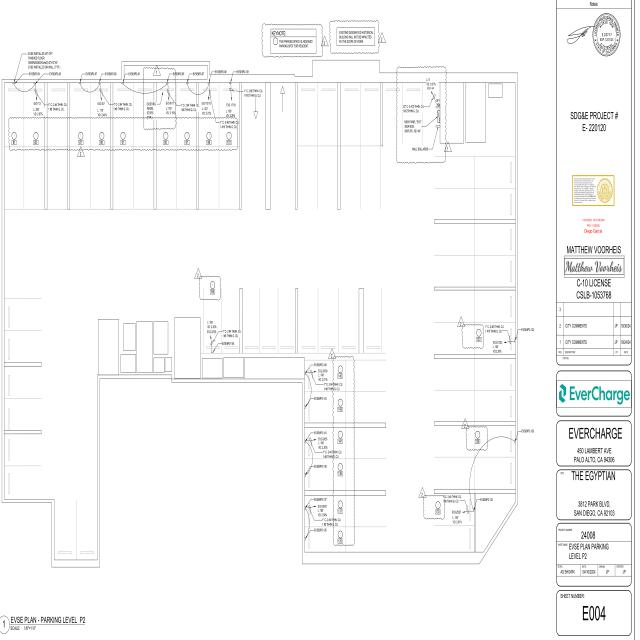evse: (302, 502, 307, 514), (303, 437, 307, 451), (303, 469, 307, 483), (304, 534, 307, 549), (304, 403, 307, 417), (302, 368, 306, 378)
gfi: (437, 102, 441, 106)
panel: (436, 110, 443, 124)
